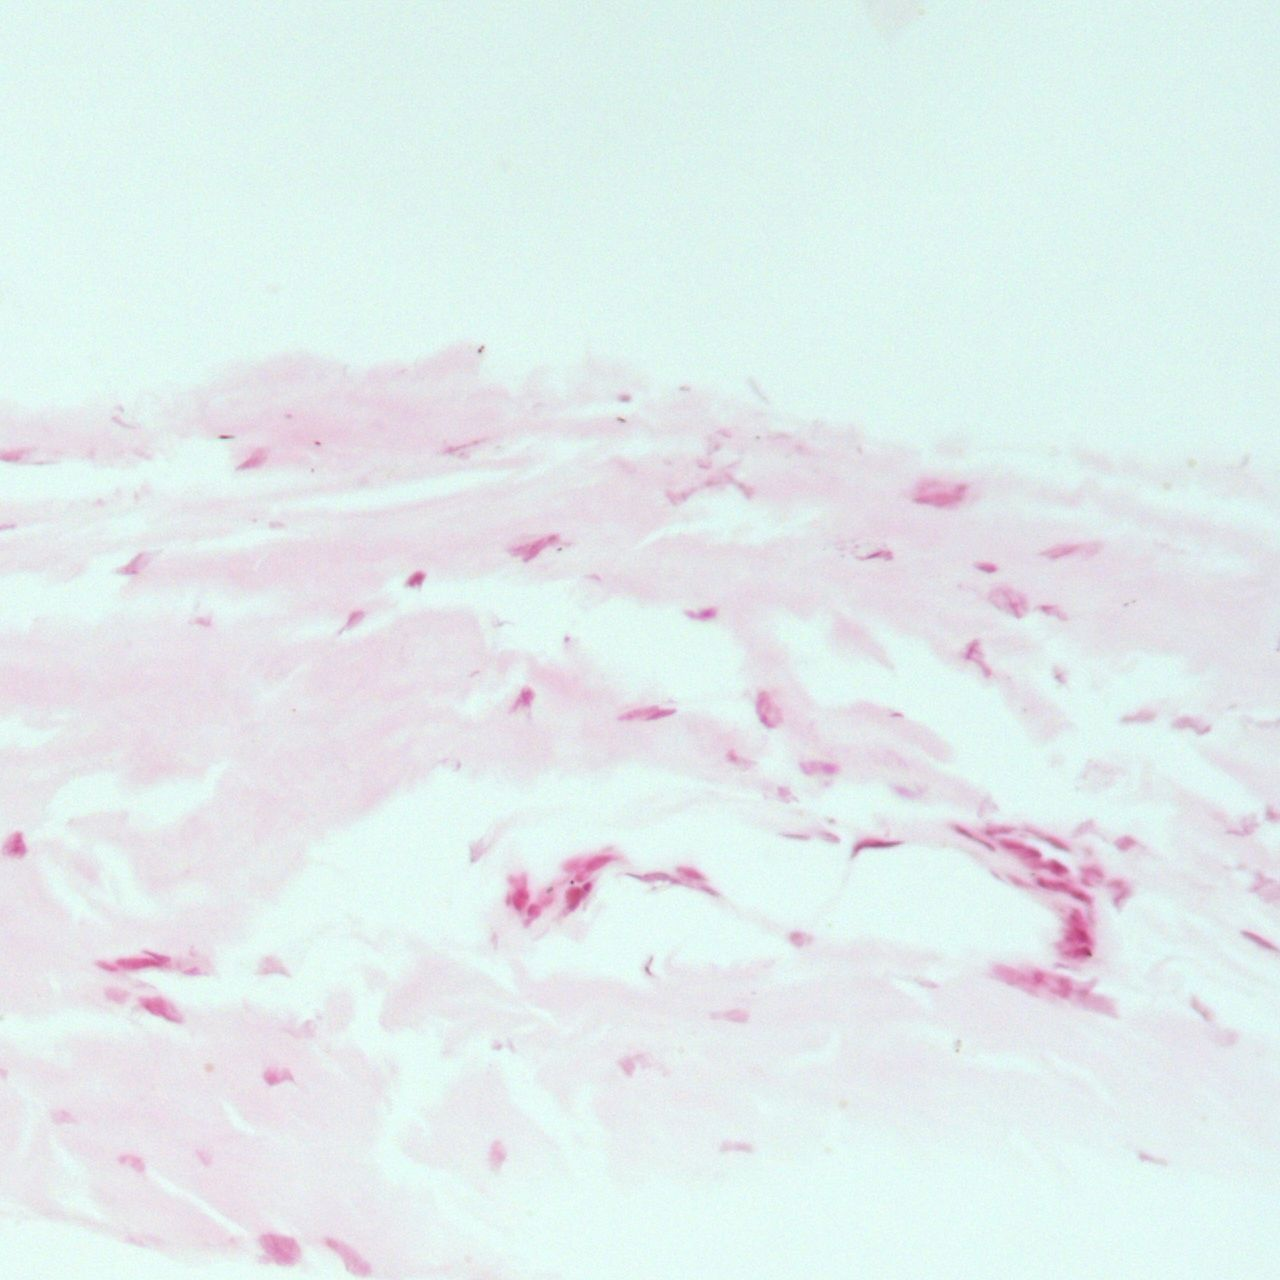dust: (217, 434, 236, 440), (202, 1063, 215, 1071), (617, 416, 626, 425), (312, 440, 322, 448), (828, 817, 835, 826), (1122, 601, 1131, 608), (954, 1039, 961, 1046), (554, 546, 563, 552), (250, 517, 257, 523), (475, 349, 483, 354), (479, 343, 484, 349), (309, 468, 314, 474), (1131, 599, 1137, 604), (755, 435, 760, 440), (955, 1048, 959, 1053)
nucleus-AC: (661, 463, 736, 509), (506, 529, 568, 566), (137, 987, 188, 1030), (1034, 872, 1092, 904), (1024, 822, 1075, 857), (497, 869, 537, 911), (258, 1232, 302, 1268), (745, 689, 783, 731), (914, 479, 968, 509), (952, 823, 998, 855), (233, 444, 272, 481), (115, 547, 154, 584), (1235, 924, 1279, 954), (990, 588, 1026, 619), (437, 436, 490, 456), (1130, 1146, 1173, 1170), (1039, 537, 1080, 561), (253, 954, 294, 978), (674, 859, 710, 885), (583, 846, 617, 873), (338, 606, 367, 636), (510, 683, 537, 716), (1175, 716, 1213, 738), (1109, 877, 1133, 911), (1185, 998, 1217, 1023), (850, 838, 903, 853), (486, 1137, 508, 1175), (704, 1008, 753, 1024), (731, 477, 760, 503), (1058, 944, 1092, 964), (618, 704, 659, 721), (1022, 965, 1048, 990), (464, 838, 492, 862), (645, 704, 676, 724), (1049, 973, 1073, 999), (631, 869, 673, 883), (263, 1065, 292, 1085), (113, 956, 157, 969), (617, 1056, 641, 1078), (683, 607, 719, 622), (91, 956, 120, 975), (1117, 710, 1155, 724), (719, 1139, 753, 1155), (116, 1155, 145, 1172), (141, 947, 170, 965), (857, 549, 896, 561), (891, 782, 915, 802), (565, 888, 584, 914), (1058, 928, 1090, 944), (104, 986, 131, 1003), (1078, 864, 1102, 884), (1044, 859, 1073, 876), (983, 824, 1015, 838), (403, 571, 425, 590), (1017, 849, 1044, 864), (563, 857, 587, 872), (779, 831, 811, 843), (49, 1108, 72, 1124), (1001, 838, 1026, 852), (523, 903, 542, 920), (1067, 910, 1085, 927), (1114, 833, 1133, 850), (704, 435, 722, 452), (974, 560, 998, 573), (789, 930, 804, 948), (716, 427, 736, 441), (195, 1150, 212, 1165), (1036, 602, 1056, 615), (1262, 806, 1280, 821), (583, 574, 608, 584), (694, 458, 713, 471), (491, 1039, 506, 1054), (697, 886, 719, 897), (193, 617, 212, 628), (182, 965, 200, 975), (821, 761, 835, 774), (802, 761, 813, 774), (727, 751, 738, 762), (888, 710, 904, 717)
